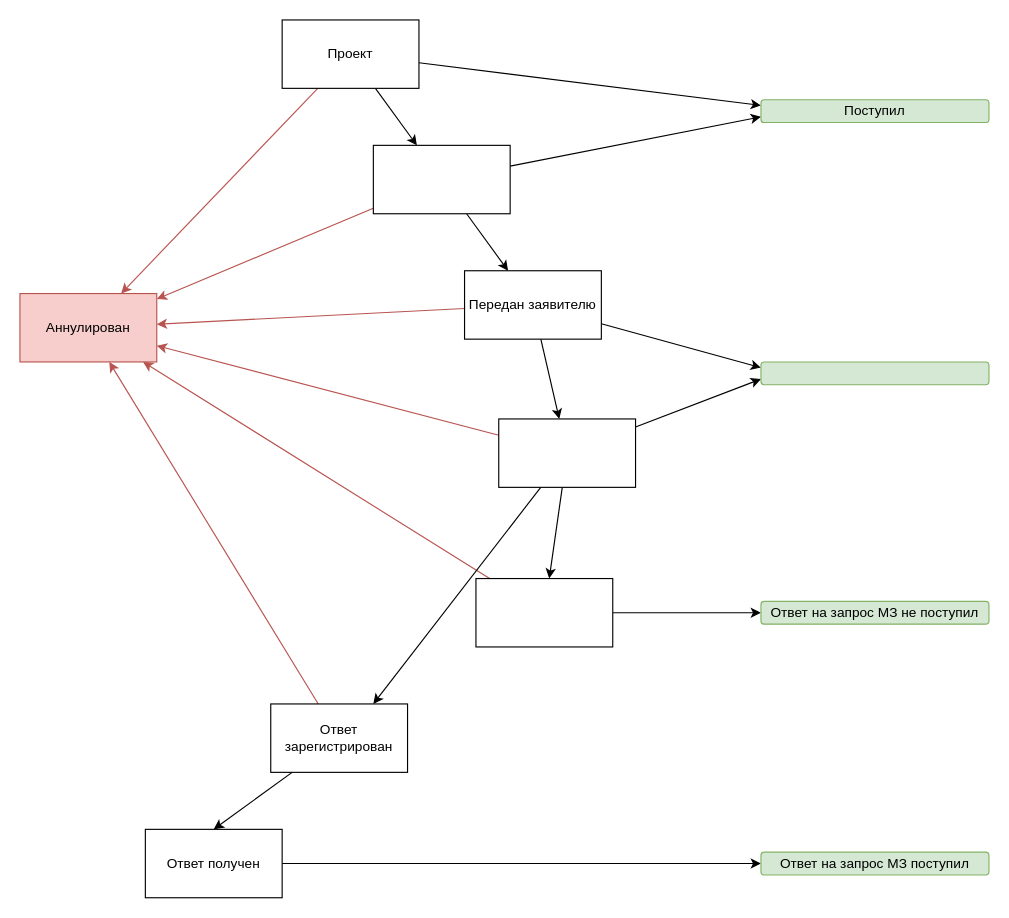
This 1009x918 diagram has some shape labels left out. The box of each missing label's shape, as (x1, y1, x2, y2) in pixels:
Обработан заявителем: (498, 418, 636, 487)
Ответ не получен: (475, 577, 613, 647)
Оформлено: (372, 144, 510, 214)
Сформирован запрос МЗ: (760, 361, 989, 385)
